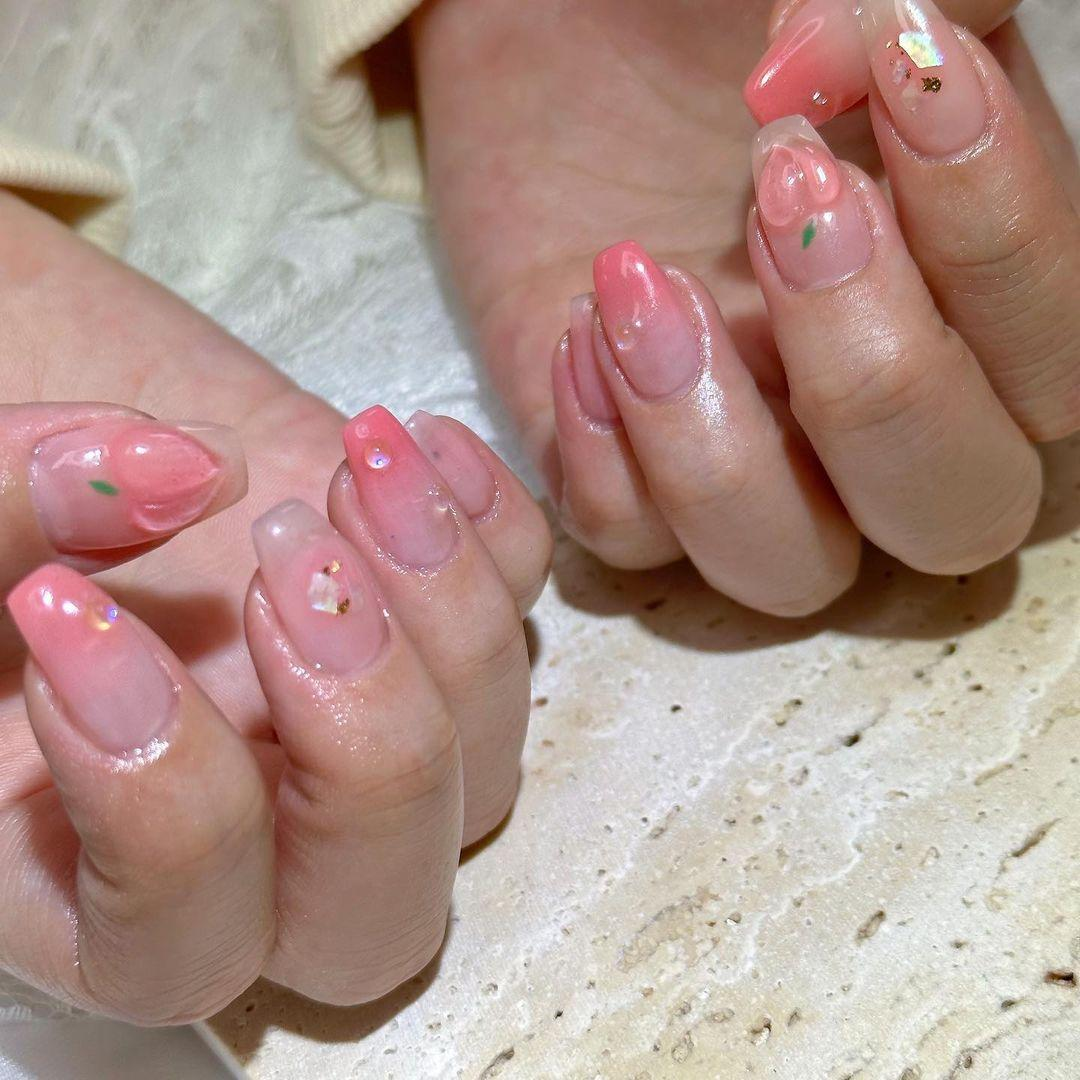nail: (5, 561, 180, 760), (26, 415, 228, 556), (249, 496, 391, 676), (748, 114, 875, 291), (857, 0, 988, 160), (340, 402, 460, 572), (591, 237, 705, 403), (741, 0, 869, 129), (402, 407, 501, 523), (566, 290, 622, 431)
